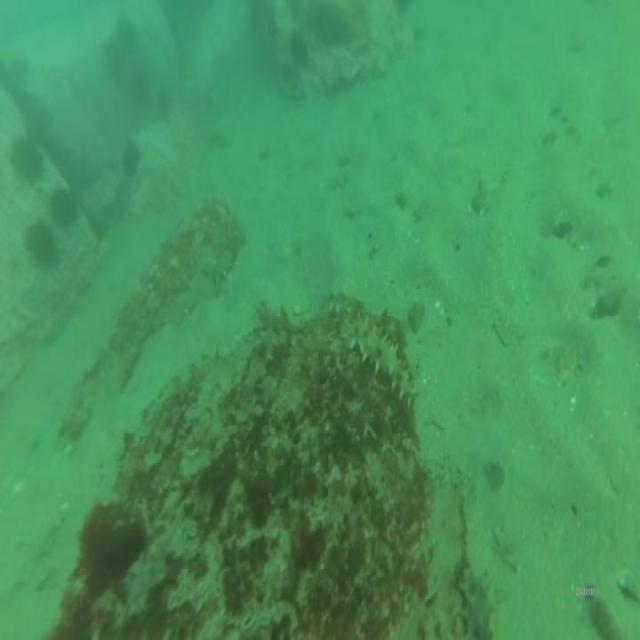echinus: (7, 133, 45, 185), (21, 215, 57, 269), (48, 183, 83, 234), (120, 136, 141, 177)
holothurian: (344, 312, 421, 404), (457, 567, 500, 640)
waterweeds: (66, 496, 148, 599)
